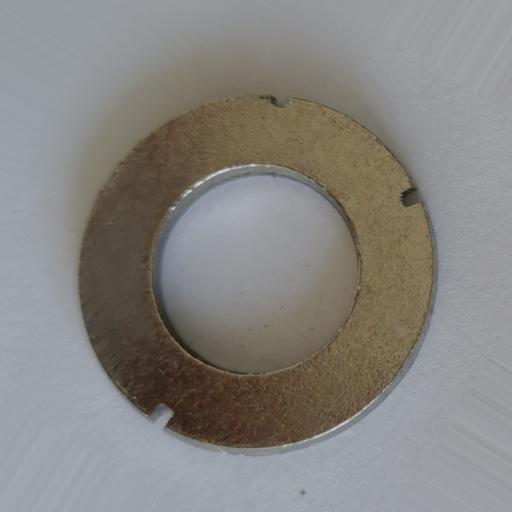burr: (147, 401, 175, 430), (398, 186, 423, 209), (269, 95, 292, 109)
